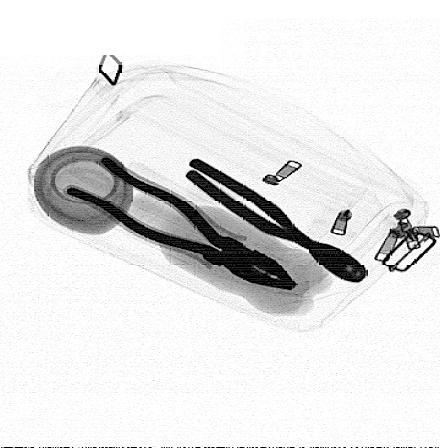Pliers: (62, 155, 298, 292), (184, 158, 367, 284)
